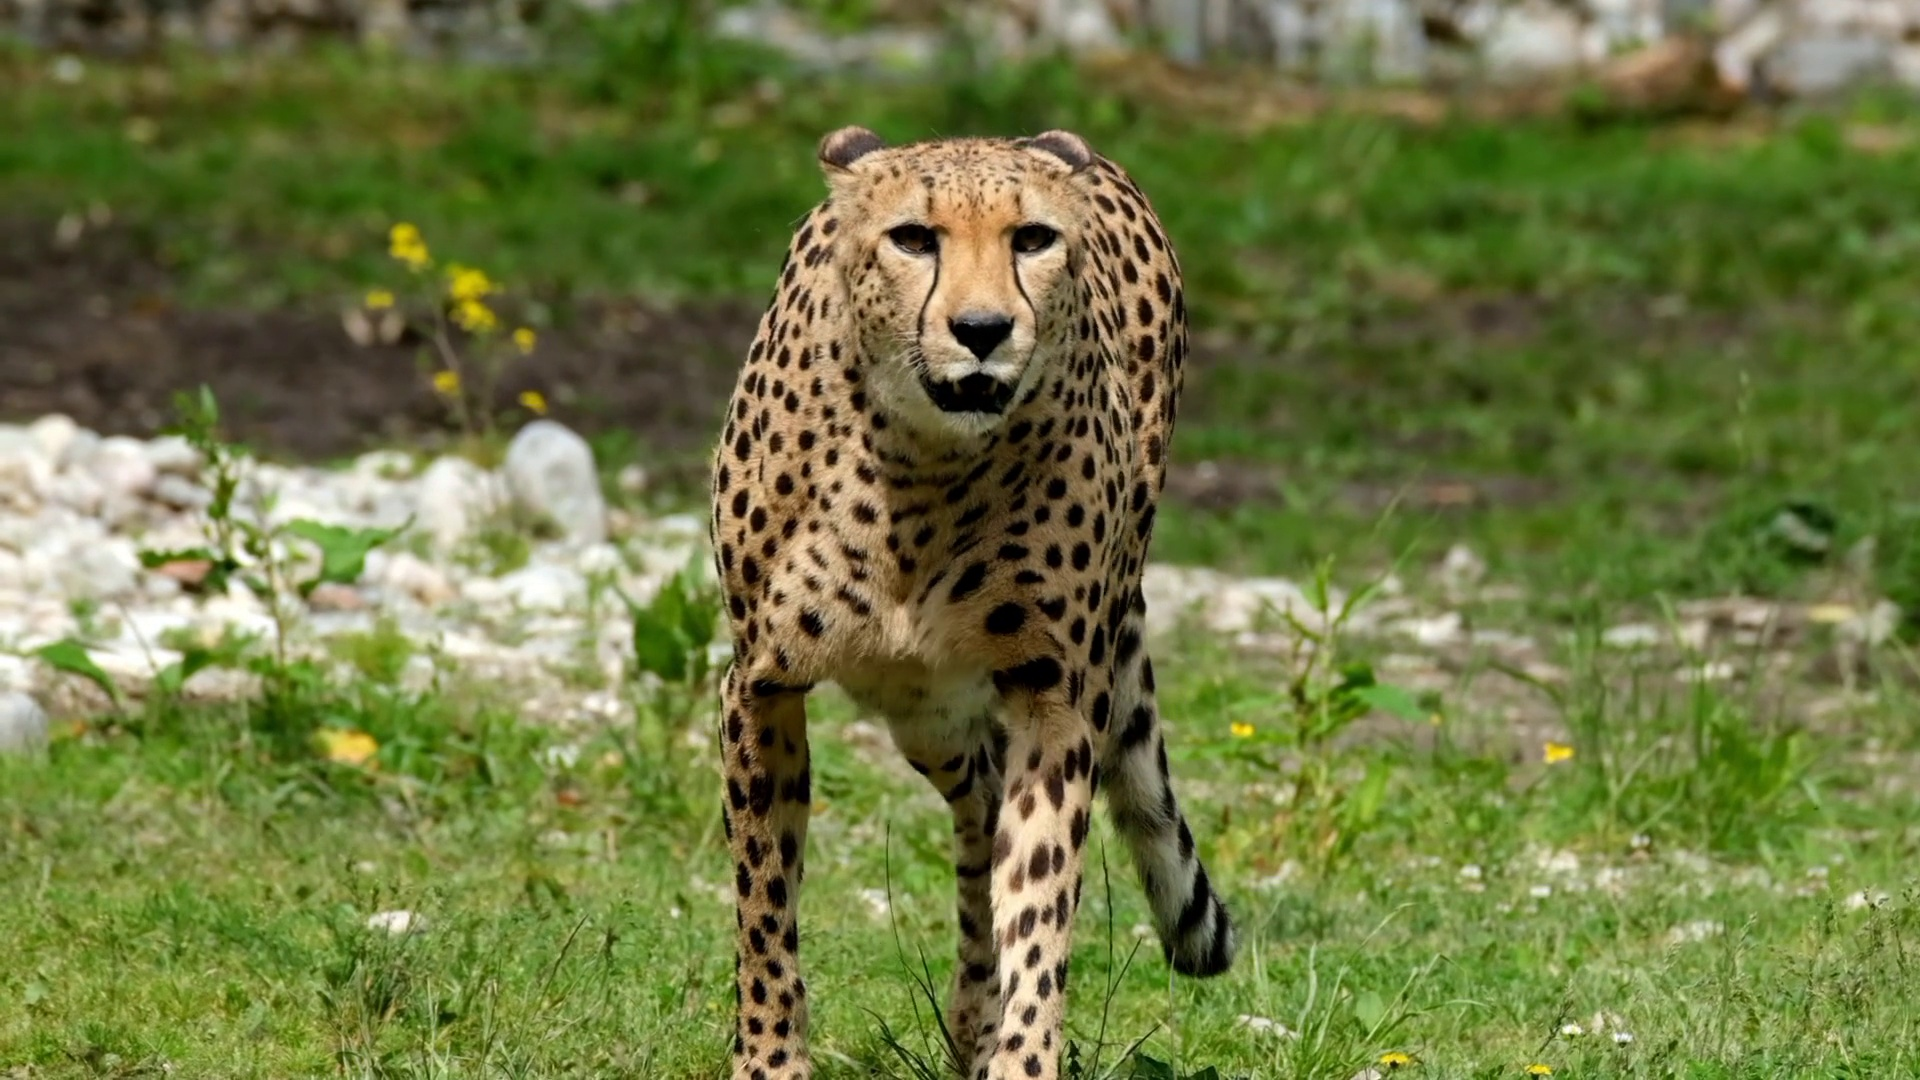Cheetah: (695, 121, 1237, 1080)
